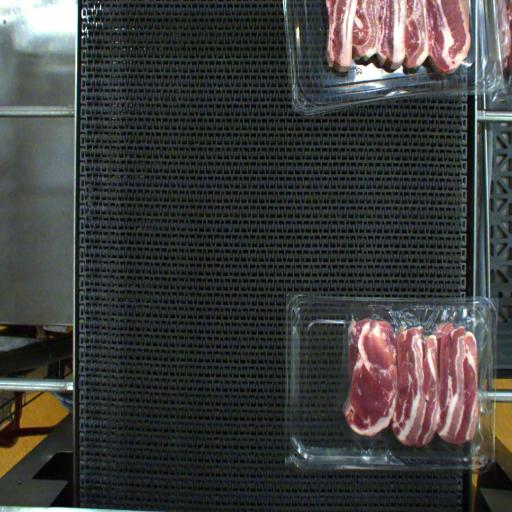unsealed: (330, 301, 493, 440)
